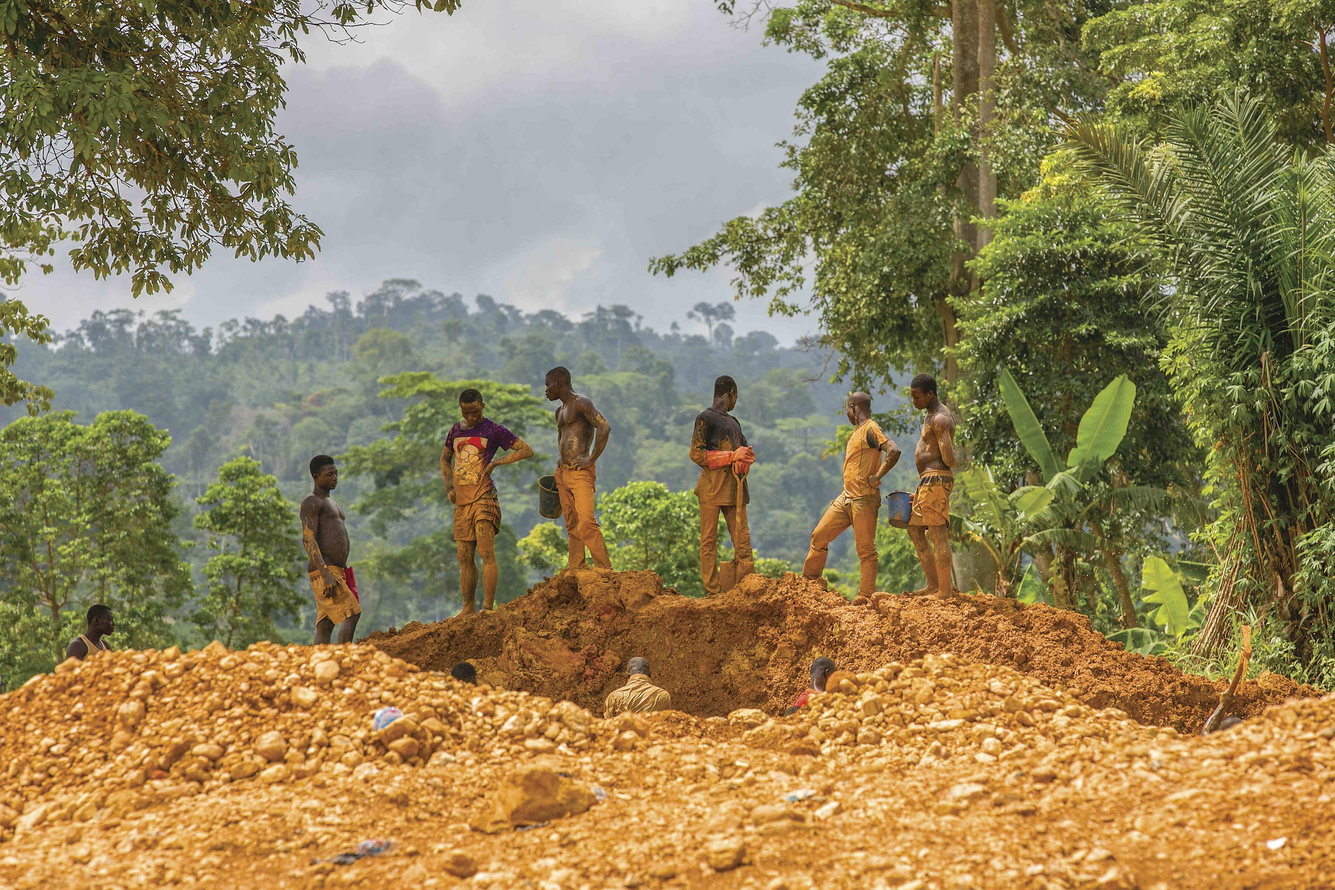MiningTool: (712, 457, 758, 590), (1223, 617, 1258, 701), (538, 471, 565, 520), (888, 487, 913, 531)
Person: (436, 385, 537, 622), (799, 391, 903, 599), (533, 364, 615, 576), (690, 372, 762, 590), (892, 374, 961, 601), (299, 446, 364, 648), (604, 654, 675, 719), (66, 601, 120, 659), (1193, 688, 1250, 733), (789, 655, 837, 704), (443, 662, 486, 684)
